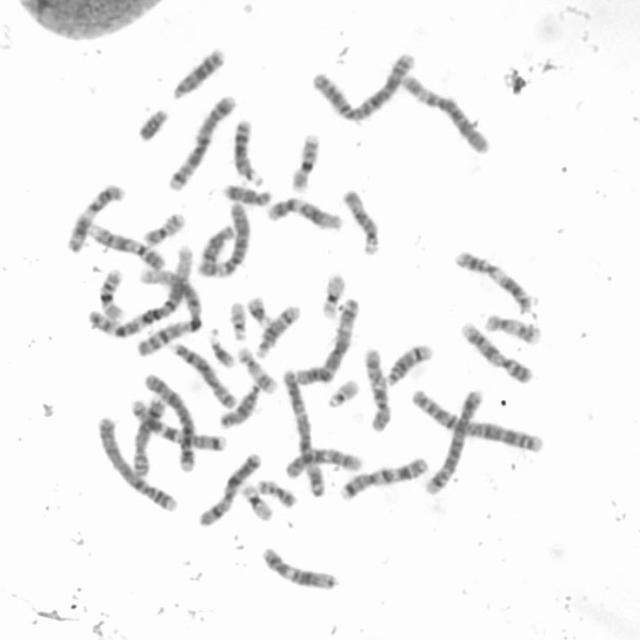A1: (88, 243, 194, 341), (133, 264, 204, 359)
A2: (410, 387, 546, 457), (309, 51, 417, 126)
A3: (294, 296, 360, 388), (281, 368, 326, 499)
B4: (96, 413, 182, 514), (141, 371, 197, 474)
B5: (166, 95, 238, 191), (423, 388, 485, 498)
C10: (284, 448, 363, 483), (363, 348, 393, 434)
C11: (454, 250, 535, 316), (66, 180, 125, 254)
C12: (256, 546, 342, 591), (264, 196, 344, 232)
C6: (401, 71, 493, 158), (195, 199, 251, 280)
C7: (131, 396, 229, 454), (338, 455, 429, 501)
C8: (172, 343, 238, 409), (131, 398, 167, 477)
C9: (459, 320, 533, 385), (86, 219, 166, 270)
D13: (170, 46, 224, 101), (232, 116, 266, 188)
D14: (253, 304, 302, 358), (385, 342, 433, 388)
D15: (343, 187, 381, 257), (217, 382, 260, 432)
E16: (288, 131, 324, 193), (98, 266, 128, 324)
E17: (236, 346, 279, 394), (484, 313, 544, 347)
E18: (201, 224, 236, 263), (223, 181, 272, 208)
F19: (319, 269, 348, 321), (238, 481, 273, 523)
F20: (141, 210, 187, 247), (256, 477, 298, 511)
G21: (206, 325, 236, 368), (244, 291, 273, 326)
G22: (325, 377, 359, 411), (226, 300, 250, 343)
X: (196, 451, 264, 529)
Y: (138, 107, 170, 141)
